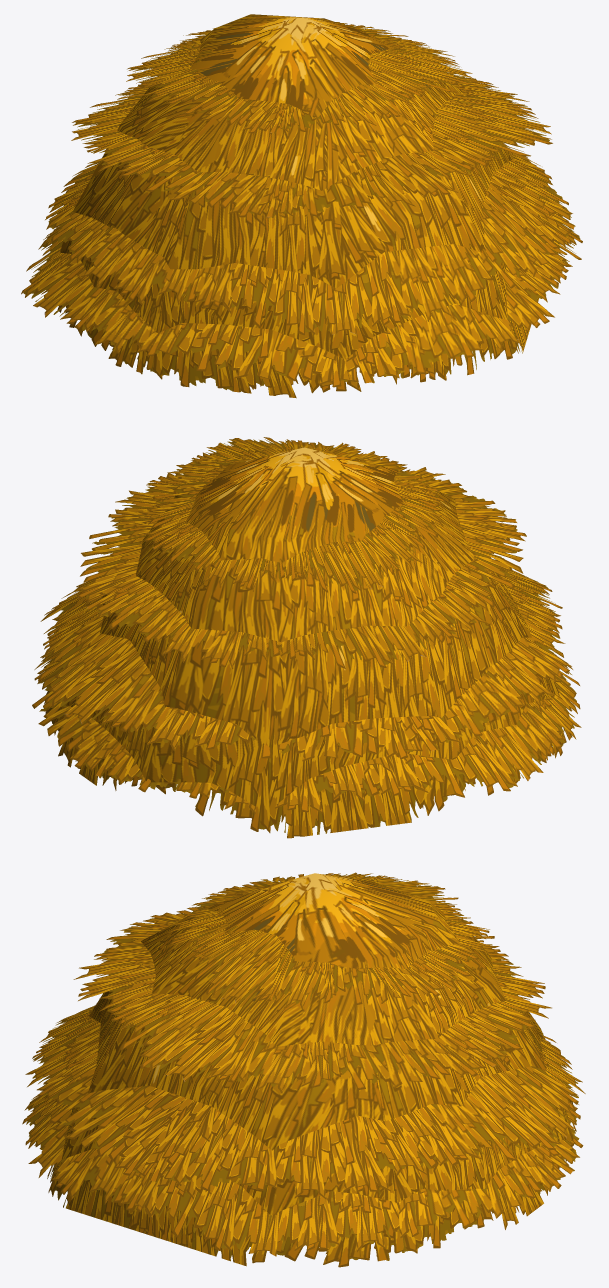
File: SM_PROP_hay_05.FBX
The picture shows the model from 3 angles, top to bottom: view 1: azimuth 30°, elevation 25°; view 2: azimuth 150°, elevation 25°; view 3: azimuth 270°, elevation 25°; orthographic projection. The views are drawn at different scales.
Parts seen in each view (by area): view 1: SM_PROP_hay_05; view 2: SM_PROP_hay_05; view 3: SM_PROP_hay_05.
Part boxes in pixels (<box>): SM_PROP_hay_05: <box>21,14,582,398</box>; SM_PROP_hay_05: <box>32,437,581,838</box>; SM_PROP_hay_05: <box>22,872,585,1267</box>.
Bounding box in the file's own units: 248 × 241 × 130.
